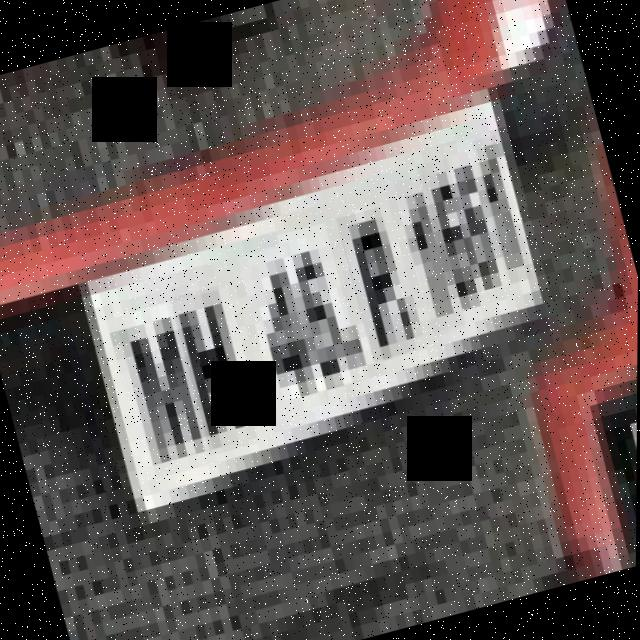1: (393, 174, 466, 337), (470, 134, 534, 285)
4: (237, 245, 329, 418)
5: (275, 222, 366, 391), (443, 138, 513, 294), (418, 157, 486, 309)
H: (169, 285, 260, 455)
M: (113, 301, 211, 464)
P: (335, 206, 418, 362)
